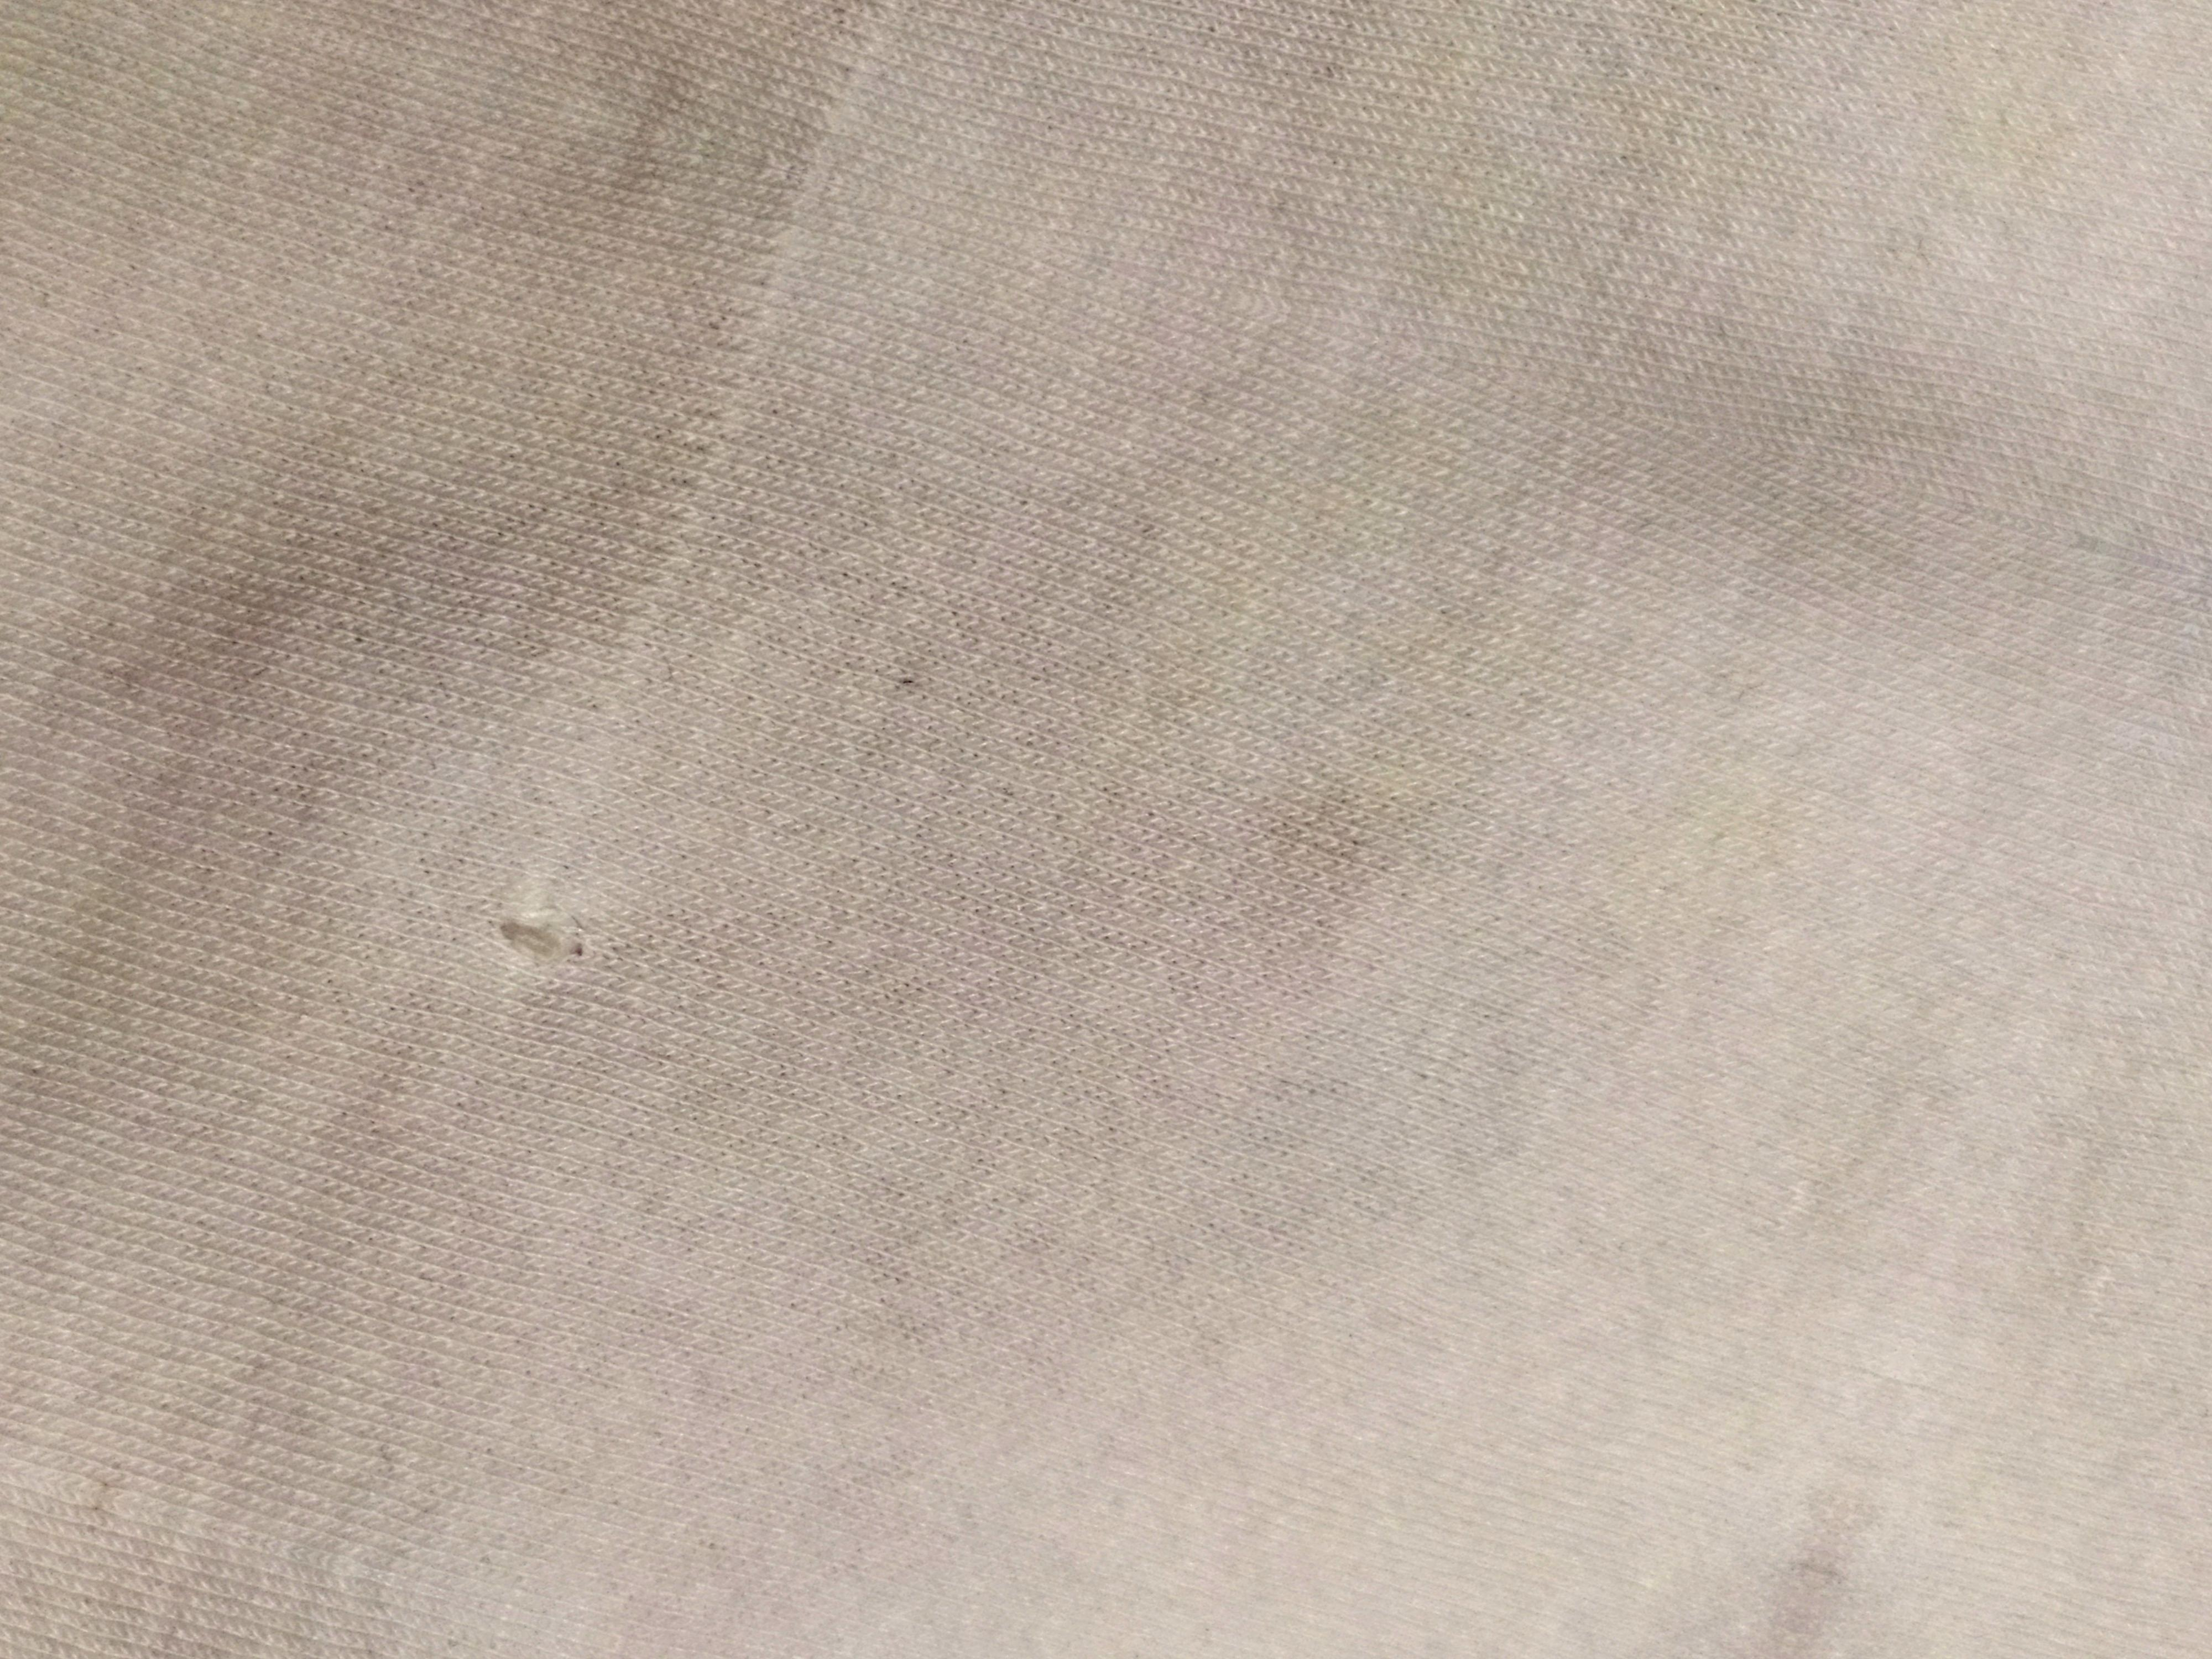knot: (458, 882, 620, 1002)
